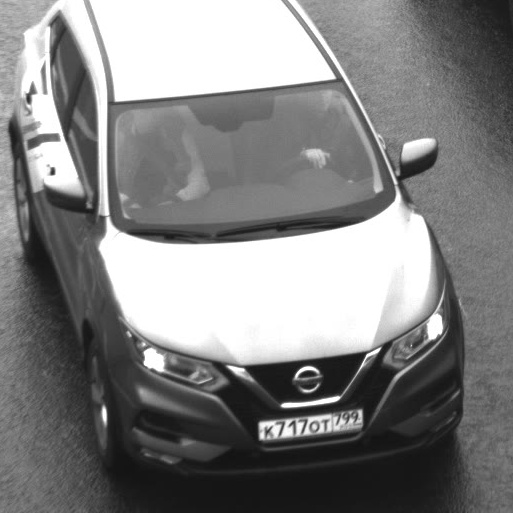plate: (248, 395, 373, 447)
